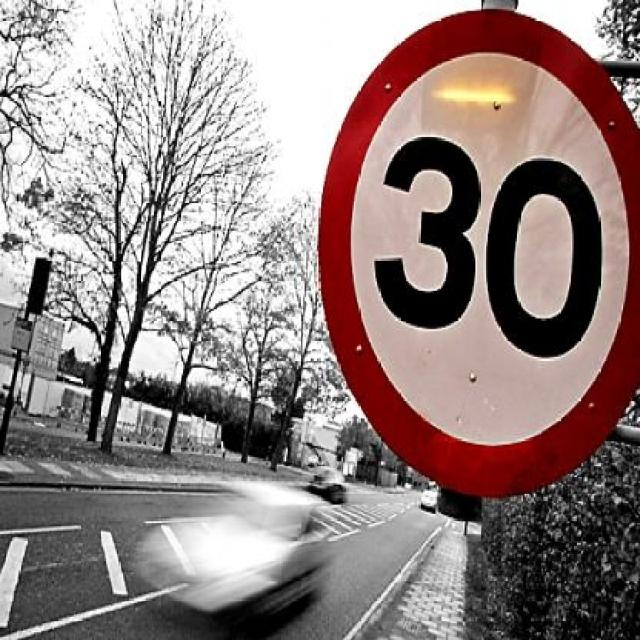forb_speed_over_30: (316, 11, 639, 509)
